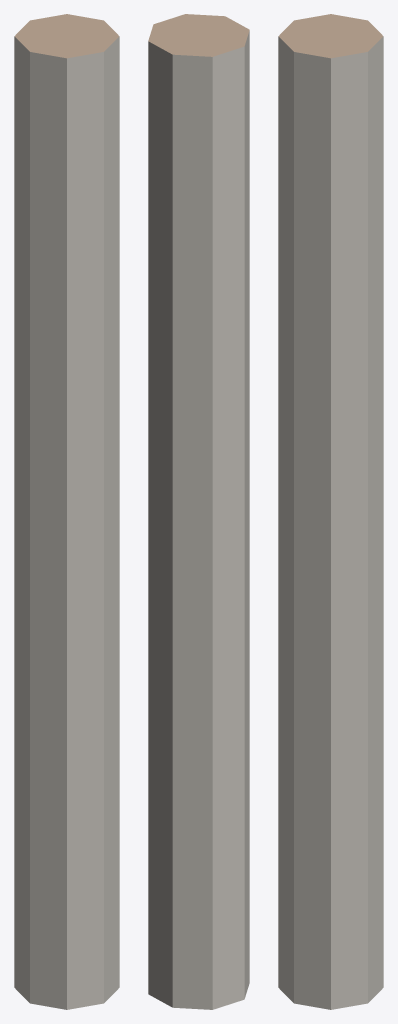
File: Structure_Wall_Inner_Joint_Main.fbx
3 renders of one model, left to right at view 1: azimuth 90°, elevation 25°; view 2: azimuth 150°, elevation 25°; view 3: azimuth 270°, elevation 25°, orthographic.
Parts seen in each view (by area): view 1: object1.122; view 2: object1.122; view 3: object1.122.
Boxes of the visible parts, x1,y1,x2,y2 form: object1.122: [14, 14, 119, 1009]; object1.122: [148, 14, 249, 1009]; object1.122: [278, 14, 383, 1009].
Bounding box in the file's own units: 10 × 100 × 10.
